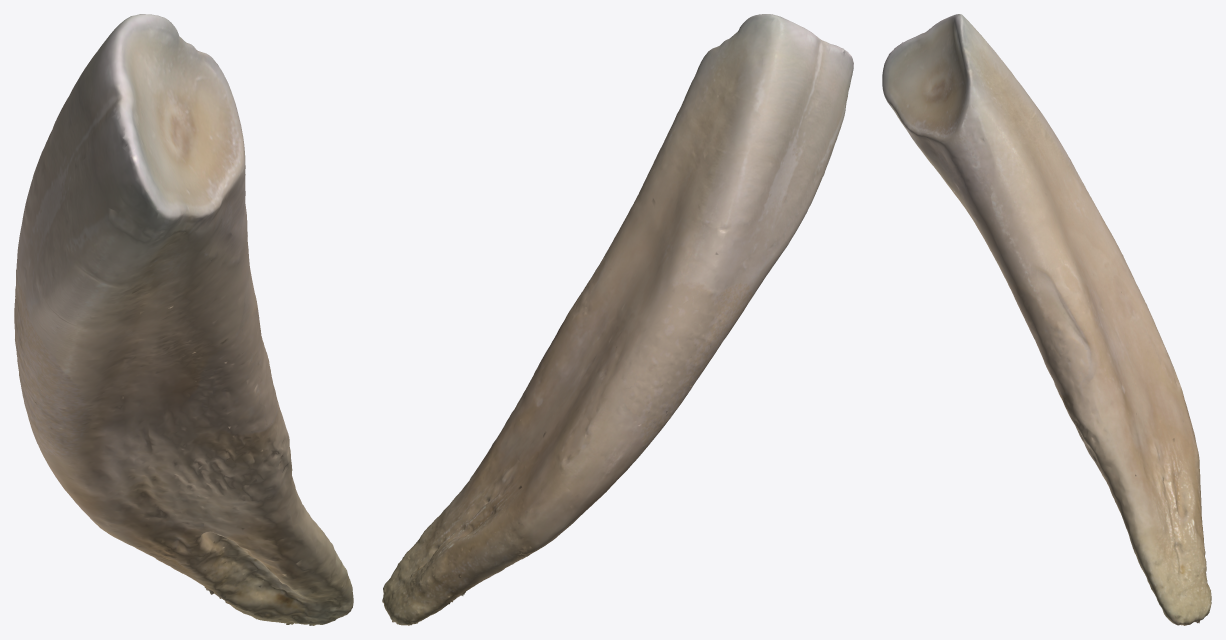
The picture shows the model from 3 angles, left to right: view 1: azimuth 30°, elevation 25°; view 2: azimuth 150°, elevation 25°; view 3: azimuth 270°, elevation 25°; orthographic projection. The views are drawn at different scales.
Visible parts, largest first — view 1: I2_li_unten_Pferd.001; view 2: I2_li_unten_Pferd.001; view 3: I2_li_unten_Pferd.001.
Boxes of the visible parts, x1=… form: I2_li_unten_Pferd.001: x1=14, y1=14, x2=353, y2=625; I2_li_unten_Pferd.001: x1=382, y1=14, x2=853, y2=625; I2_li_unten_Pferd.001: x1=882, y1=14, x2=1211, y2=625.
Bounding box in the file's own units: 3361 × 5836 × 3462.
1 material, 1 textured.
